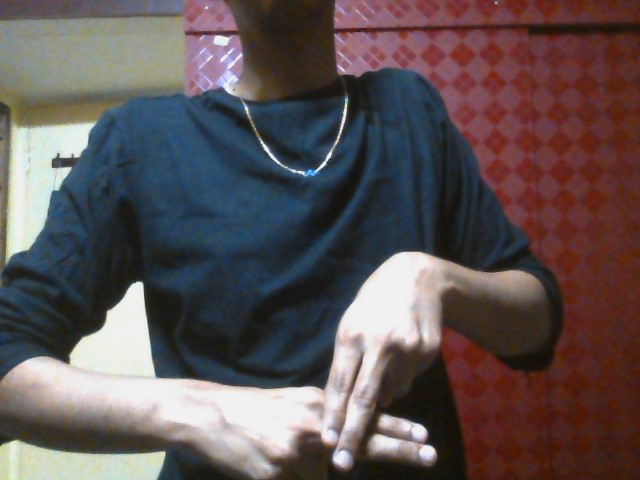F: (215, 282, 439, 480)
